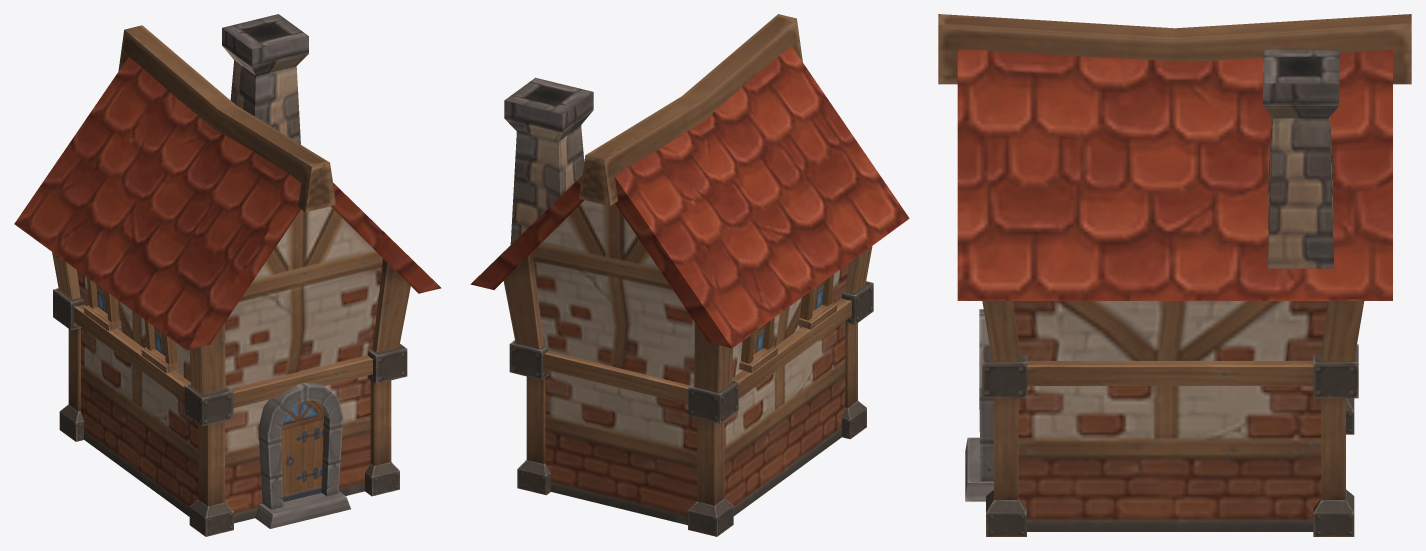
Rendered from paran_house_3.FBX.
3 views of the same model, side by side, from view 1: azimuth 30°, elevation 25°; view 2: azimuth 150°, elevation 25°; view 3: azimuth 270°, elevation 25° (orthographic). The views are drawn at different scales.
Parts seen in each view (by area): view 1: Object138; view 2: Object138; view 3: Object138.
Part boxes in pixels (x1=…): Object138: x1=14, y1=14, x2=441, y2=536; Object138: x1=470, y1=14, x2=909, y2=536; Object138: x1=938, y1=14, x2=1411, y2=536.
Size of the model in its own units: 109 by 139 by 151.
